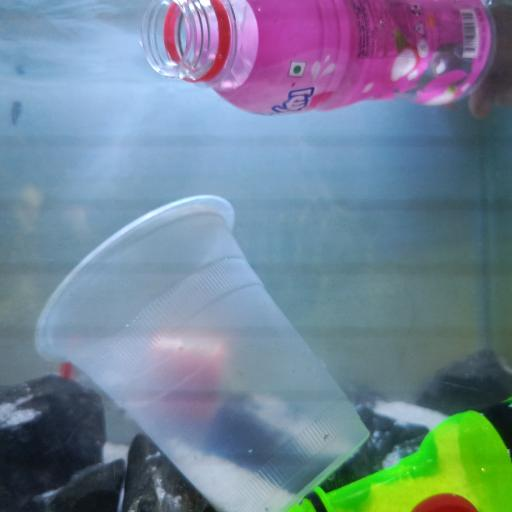bottle_cap: (413, 492, 480, 512)
plastic_bottle: (141, 0, 499, 116), (290, 398, 512, 512)
plastic_cup: (36, 194, 370, 511)
